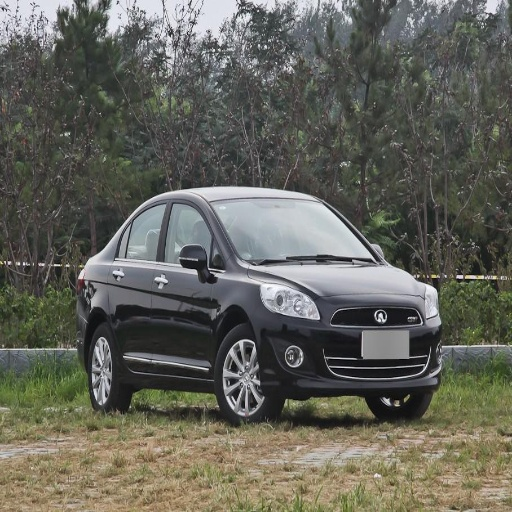front_bumper: (261, 296, 442, 396)
front_right_door: (153, 197, 224, 372)
front_right_light: (262, 281, 318, 321)
